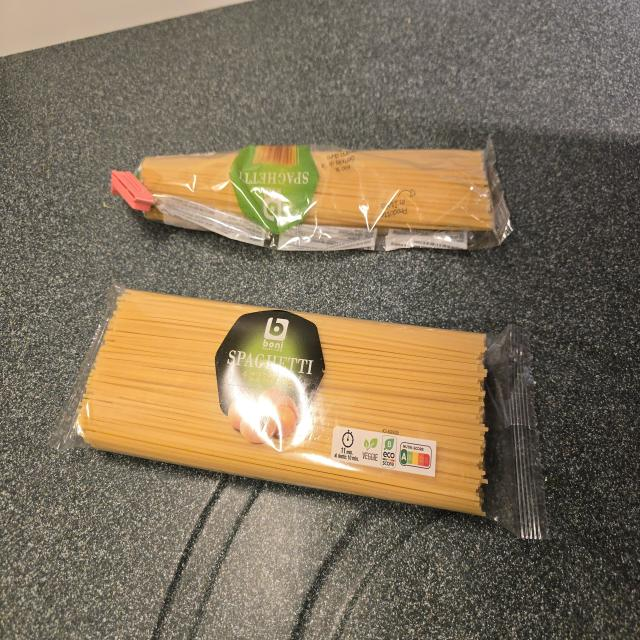Pasta: (63, 284, 488, 516), (130, 140, 510, 250)
